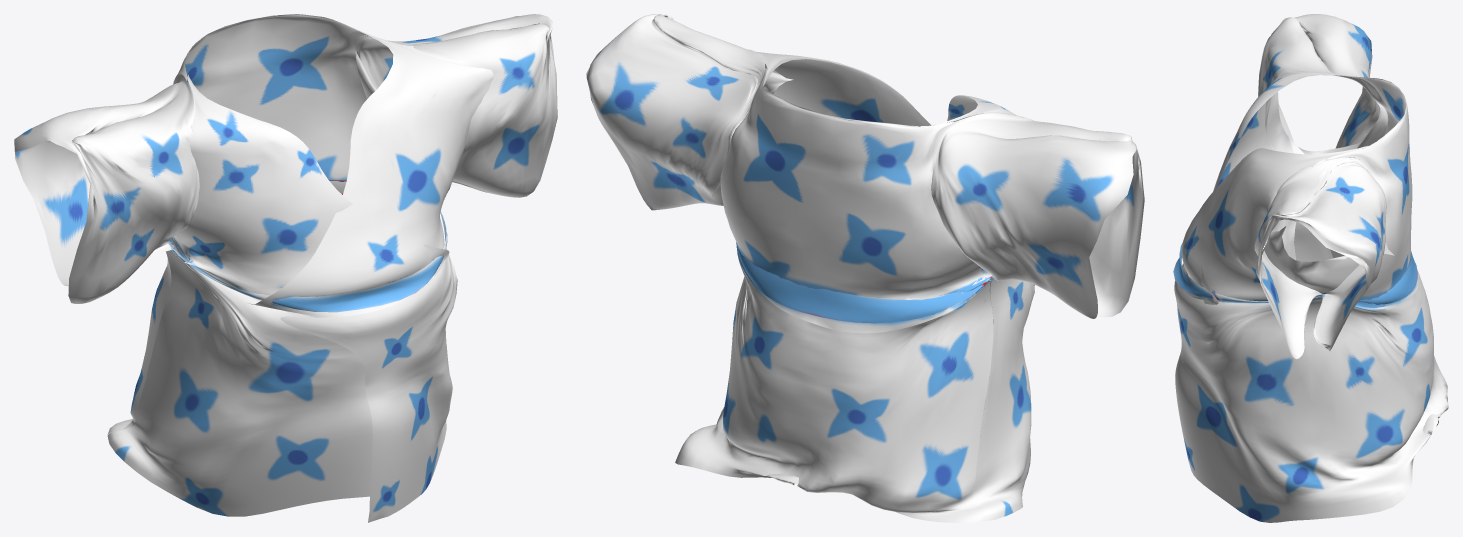
Rendered from Kimono-Blue-Flowers.glb.
3 renders of one model, left to right at view 1: azimuth 30°, elevation 25°; view 2: azimuth 150°, elevation 25°; view 3: azimuth 270°, elevation 25°, orthographic. The views are drawn at different scales.
Visible parts, largest first — view 1: Kimono-Blue-Flowers; view 2: Kimono-Blue-Flowers; view 3: Kimono-Blue-Flowers.
Part boxes in pixels (<box>): Kimono-Blue-Flowers: <box>14,14,557,522</box>; Kimono-Blue-Flowers: <box>586,14,1144,522</box>; Kimono-Blue-Flowers: <box>1173,14,1448,522</box>.
Bounding box in the file's own units: 0.6682 × 0.5166 × 0.3458.
2 materials, 2 textured.
